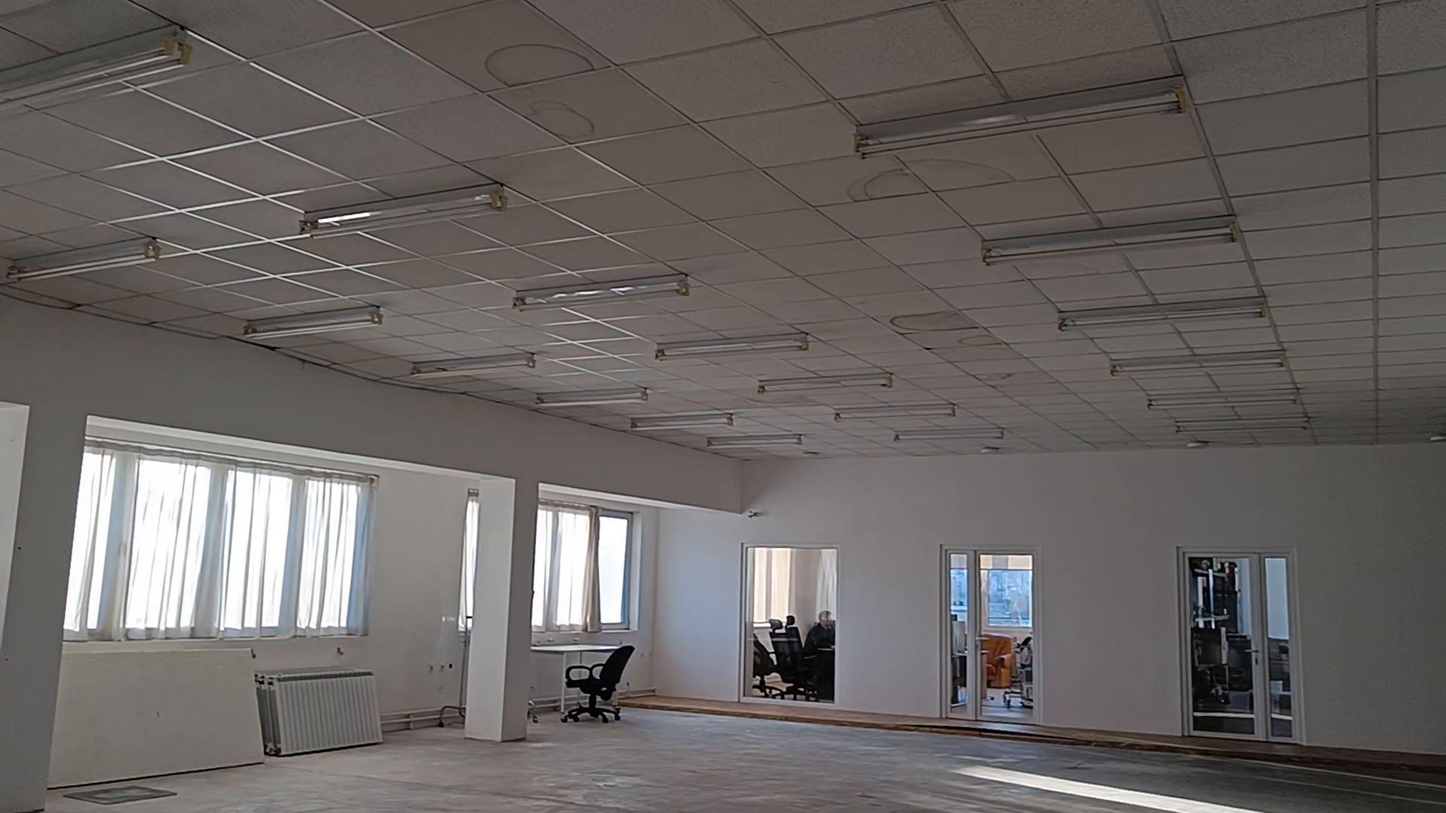ceiling: (0, 0, 1445, 456)
floor: (46, 699, 1445, 812)
wall: (0, 299, 1445, 804), (382, 469, 467, 706)
